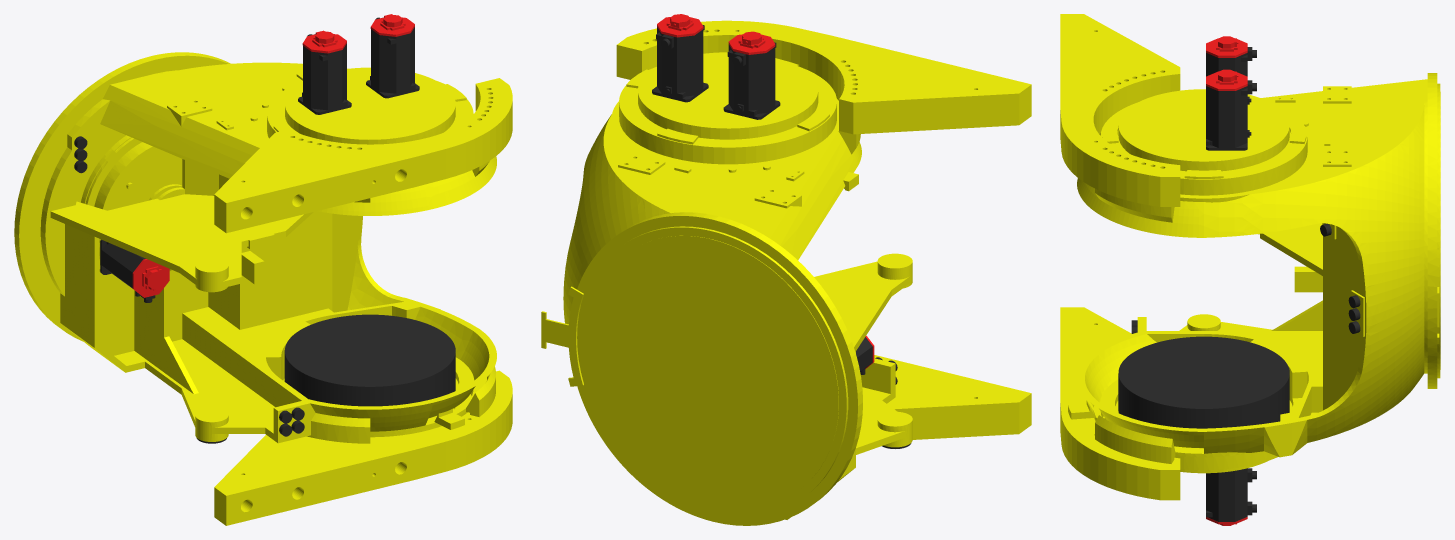
The picture shows the model from 3 angles, left to right: view 1: azimuth 30°, elevation 25°; view 2: azimuth 150°, elevation 25°; view 3: azimuth 270°, elevation 25°; orthographic projection. The views are drawn at different scales.
Visible parts, largest first — view 1: node; view 2: node; view 3: node.
Part boxes in pixels (x1=…): node: x1=14, y1=14, x2=512, y2=525; node: x1=541, y1=14, x2=1031, y2=525; node: x1=1060, y1=14, x2=1440, y2=525.
Size of the model in its own units: 1736 by 2082 by 1600.
